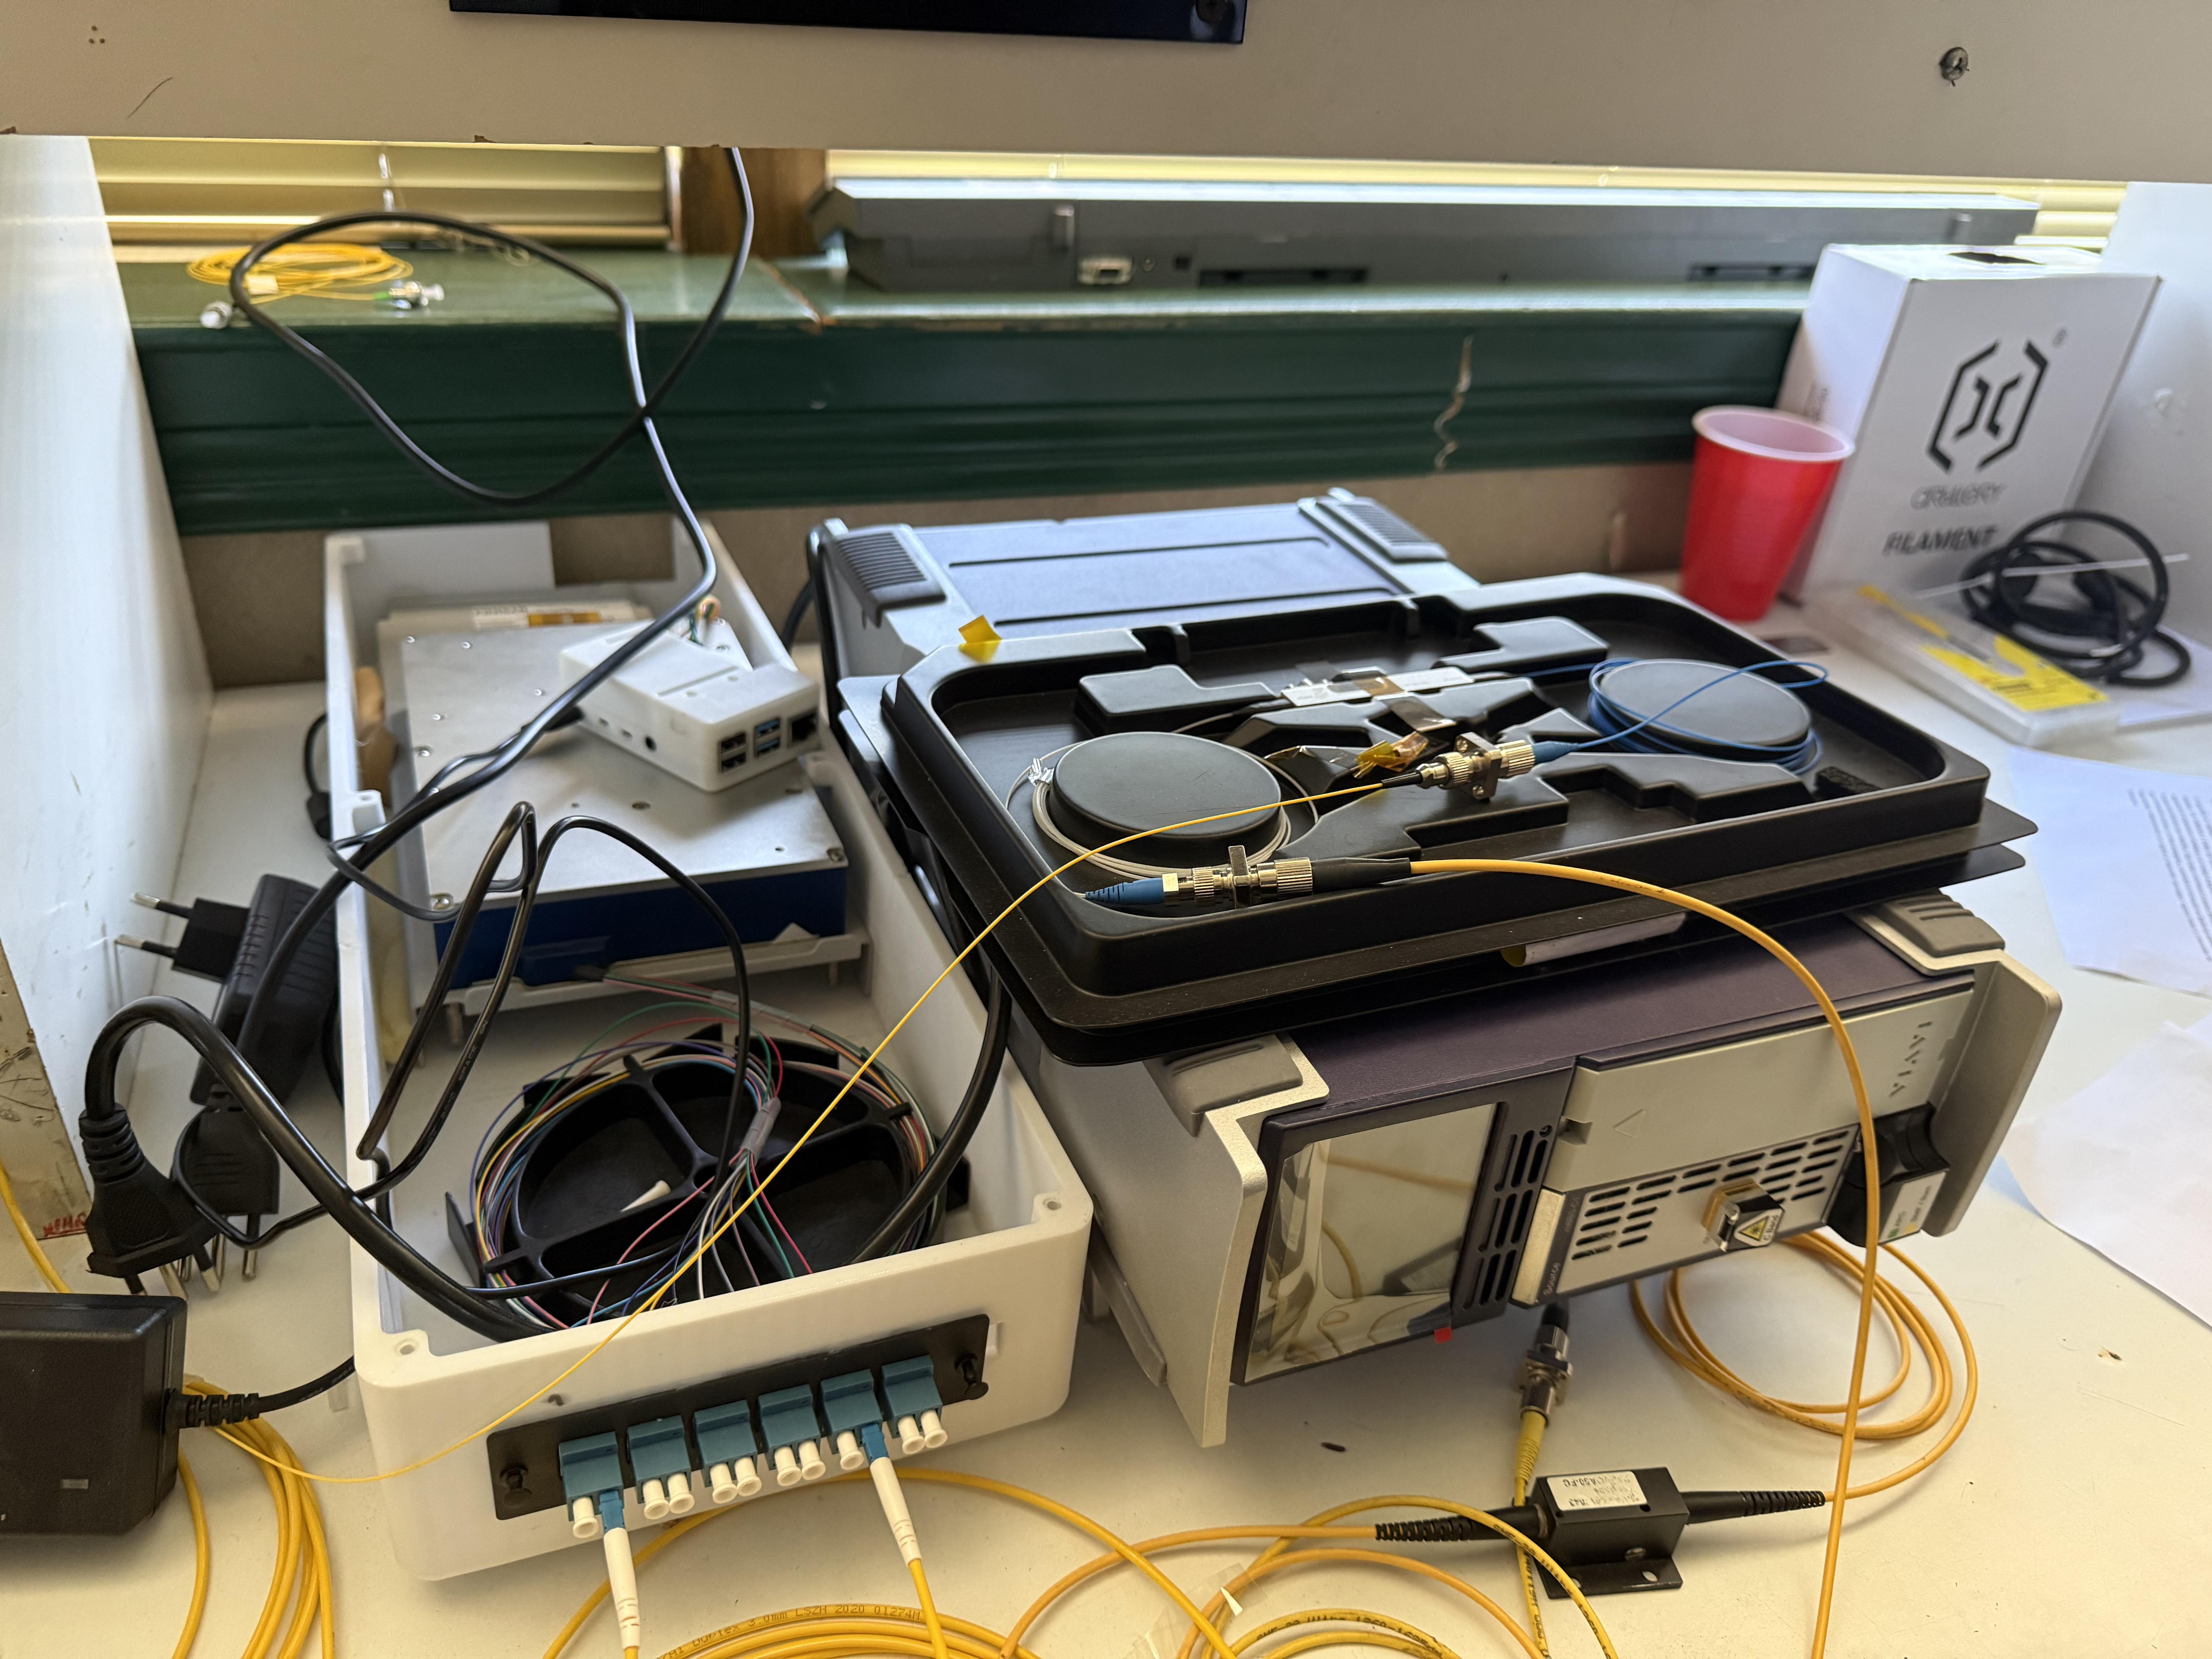laser: (808, 432, 2104, 1485)
